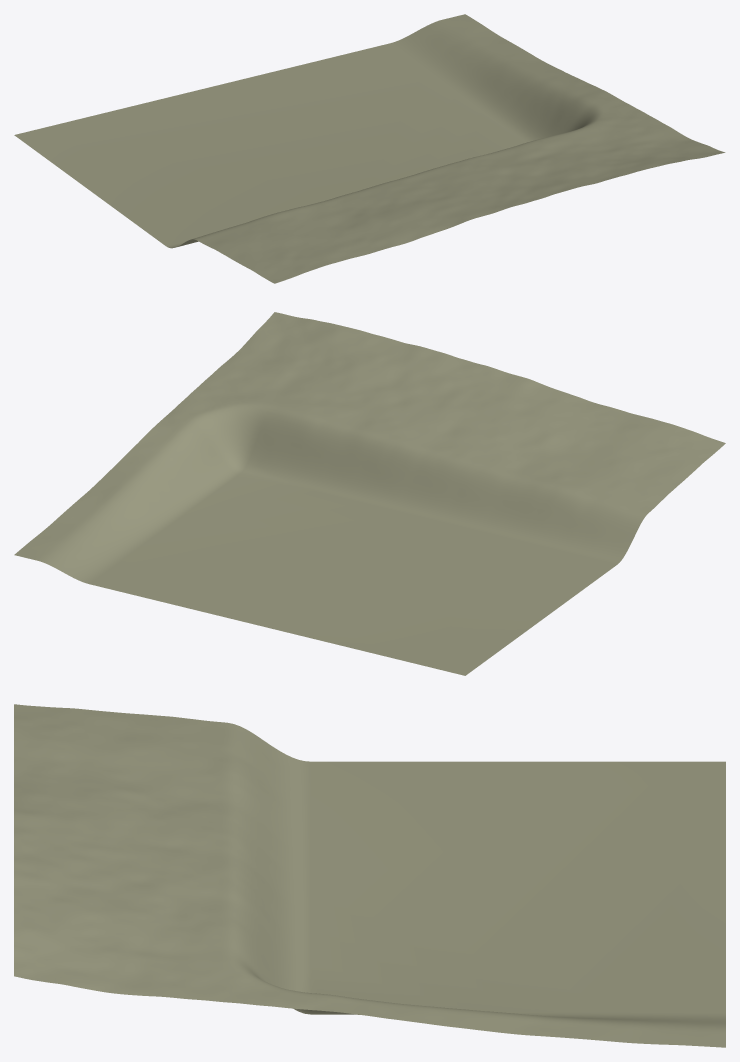
File: SM_VB_CityTerrain_9_4.fbx
3 renders of one model, top to bottom at view 1: azimuth 30°, elevation 25°; view 2: azimuth 150°, elevation 25°; view 3: azimuth 270°, elevation 25°, orthographic. The views are drawn at different scales.
Visible parts, largest first — view 1: SM_VB_CityTerrain_9_4; view 2: SM_VB_CityTerrain_9_4; view 3: SM_VB_CityTerrain_9_4.
Boxes of the visible parts, left/top/right/bottom form: SM_VB_CityTerrain_9_4: left=14, top=14, right=725, bottom=283; SM_VB_CityTerrain_9_4: left=14, top=312, right=725, bottom=675; SM_VB_CityTerrain_9_4: left=14, top=704, right=725, bottom=1047.
Bounding box in the file's own units: 600 × 83.5 × 600.
